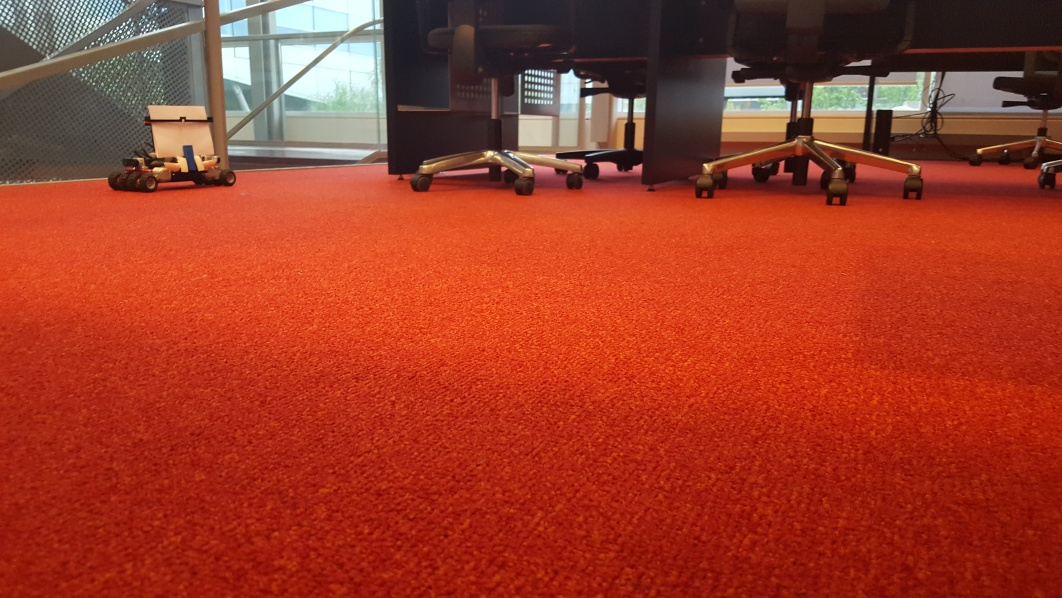car: (109, 106, 237, 193)
